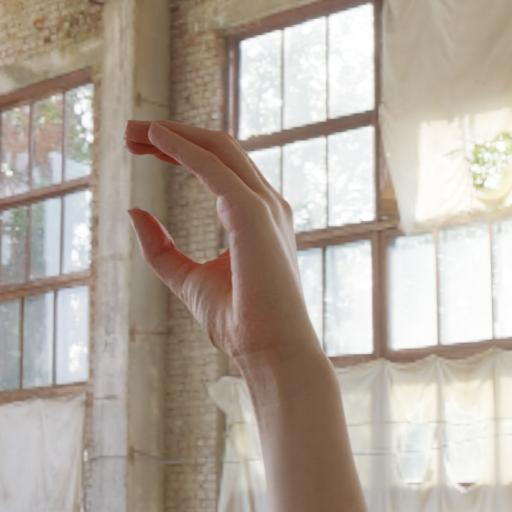C: (99, 96, 349, 374)
